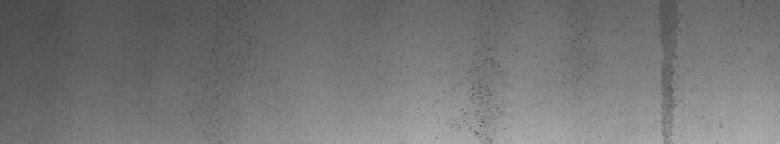ib: (448, 20, 582, 136)
